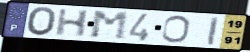4: (127, 12, 152, 43)
H: (53, 8, 92, 38)
I: (207, 16, 220, 46)
M: (90, 10, 130, 41)
O: (26, 6, 59, 37), (160, 15, 191, 44)
